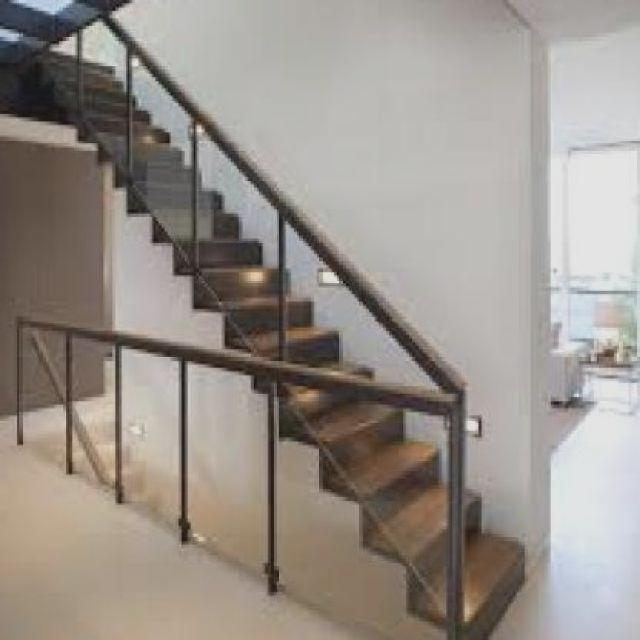stair: (23, 26, 560, 636)
